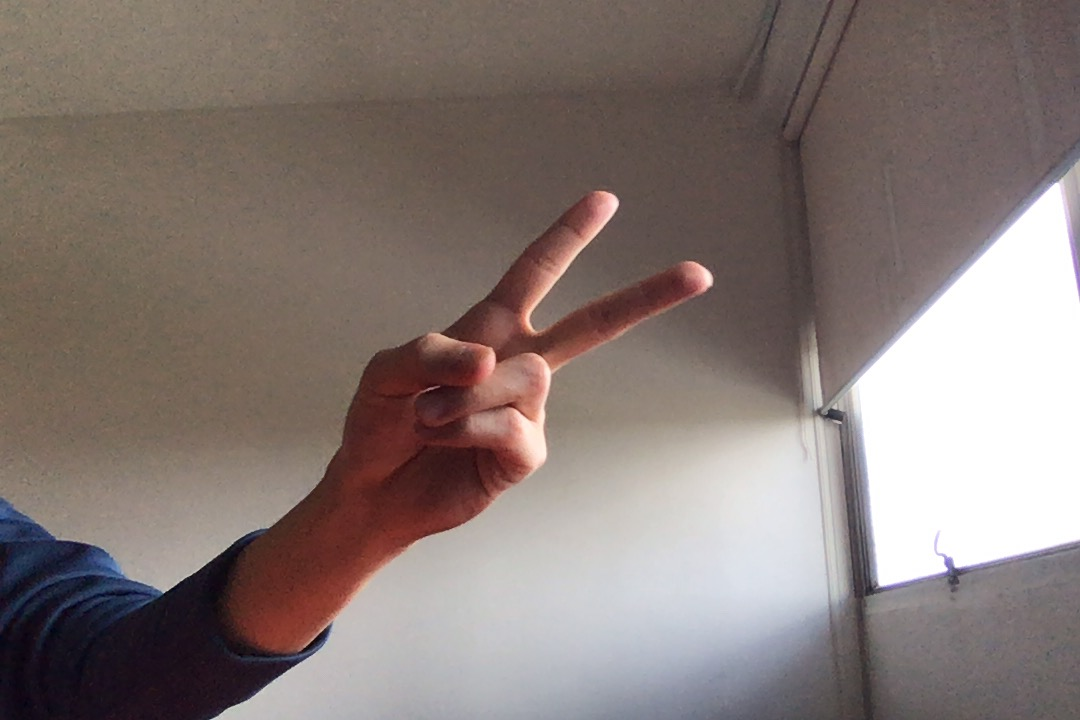peacesign: (332, 176, 719, 545)
